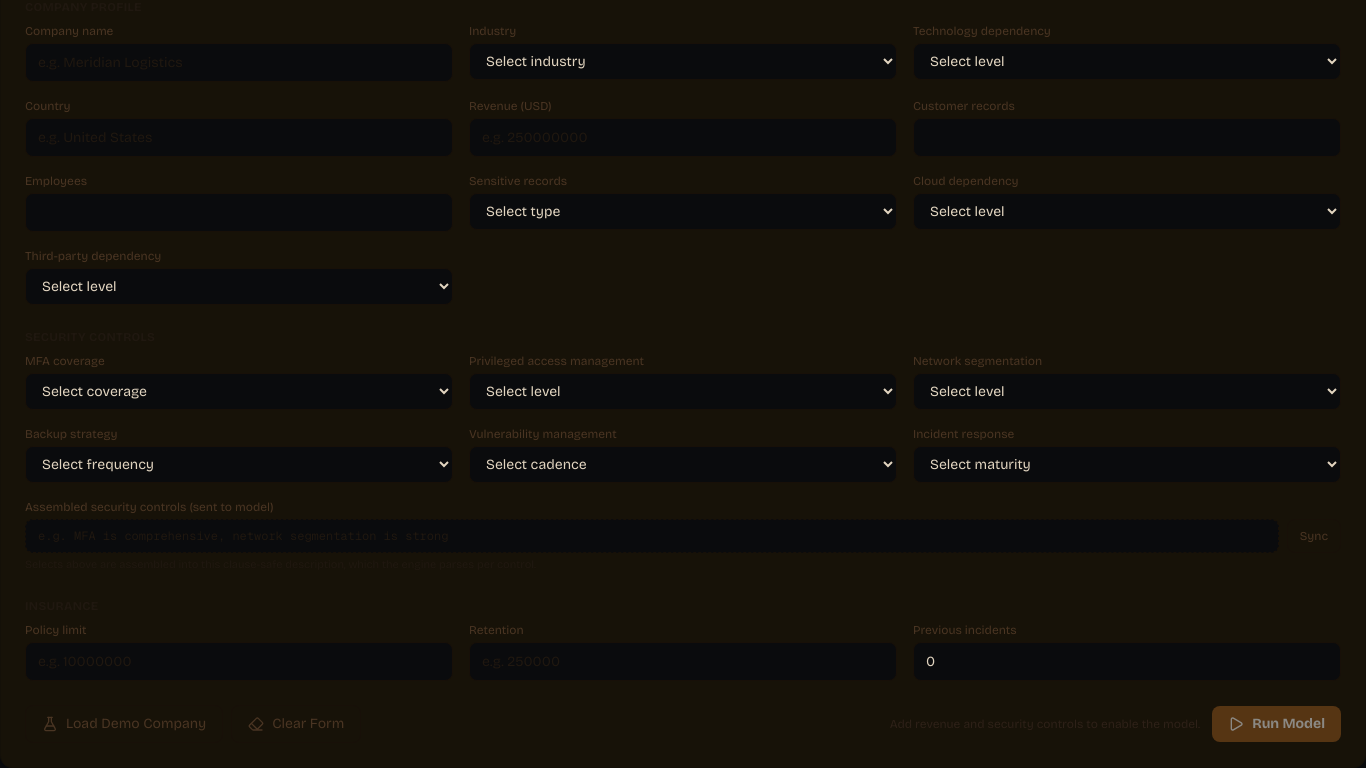
CompanyForm demo mode › loads a demo company with a numeric revenue on press
(page scrolled)
Click the button "Load Demo Company" at (124, 724), box [25, 704, 223, 742]
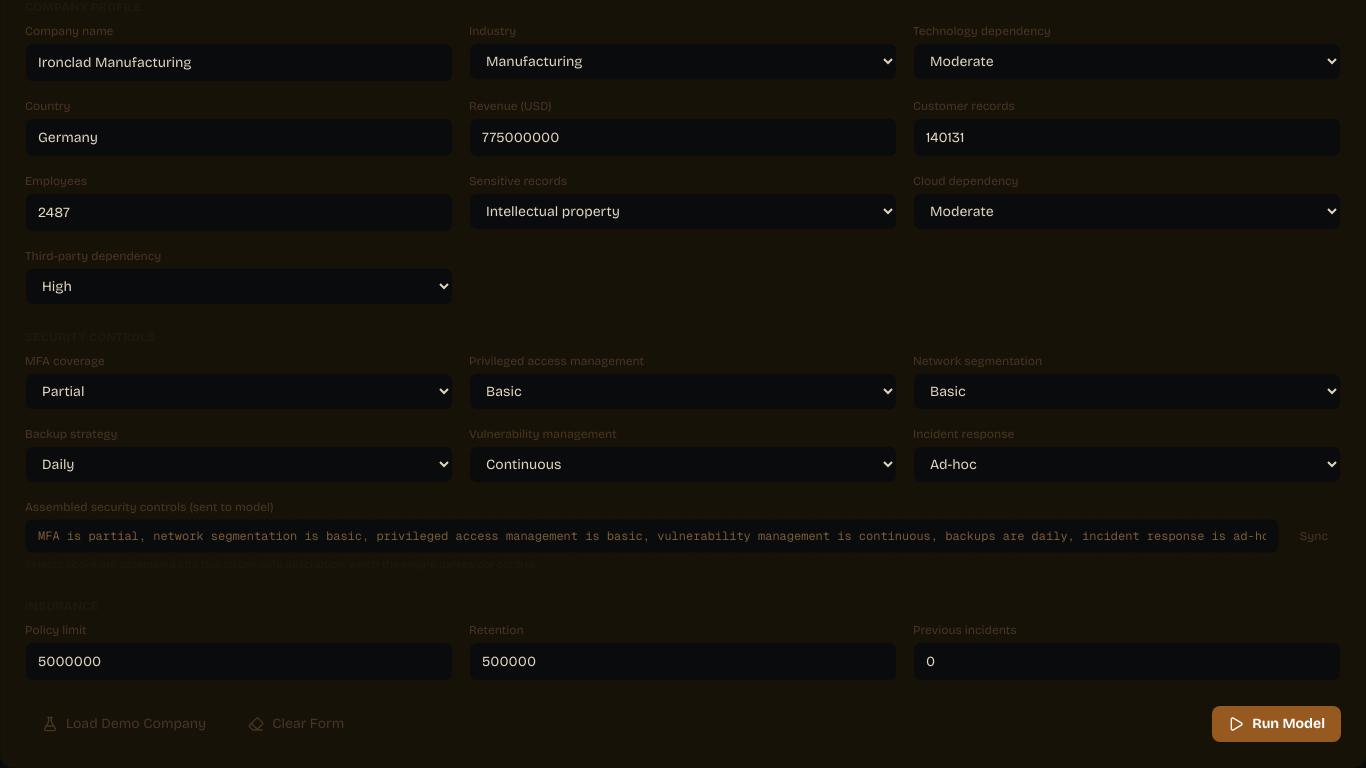
Now the number field labelled "Revenue (USD)" is not empty, box [469, 118, 897, 157]
